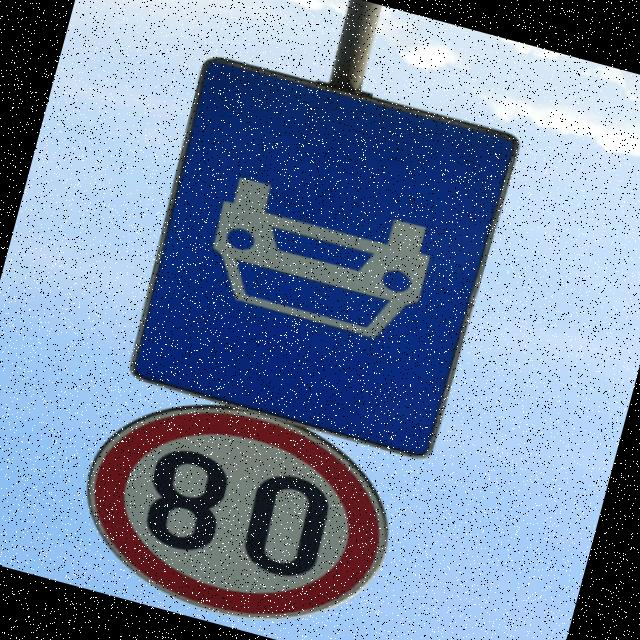speed_limit_80: (59, 371, 419, 640)
